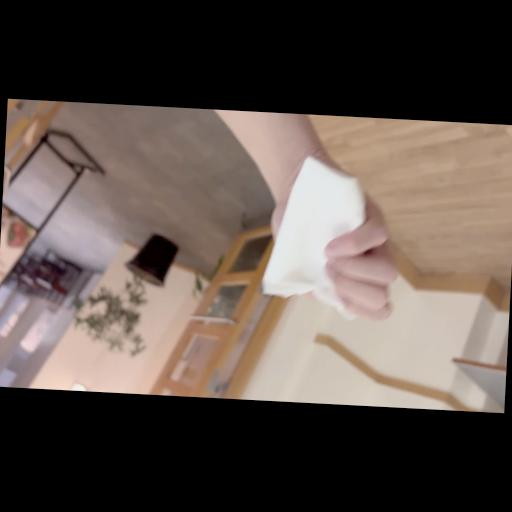napkin: (260, 154, 376, 322)
